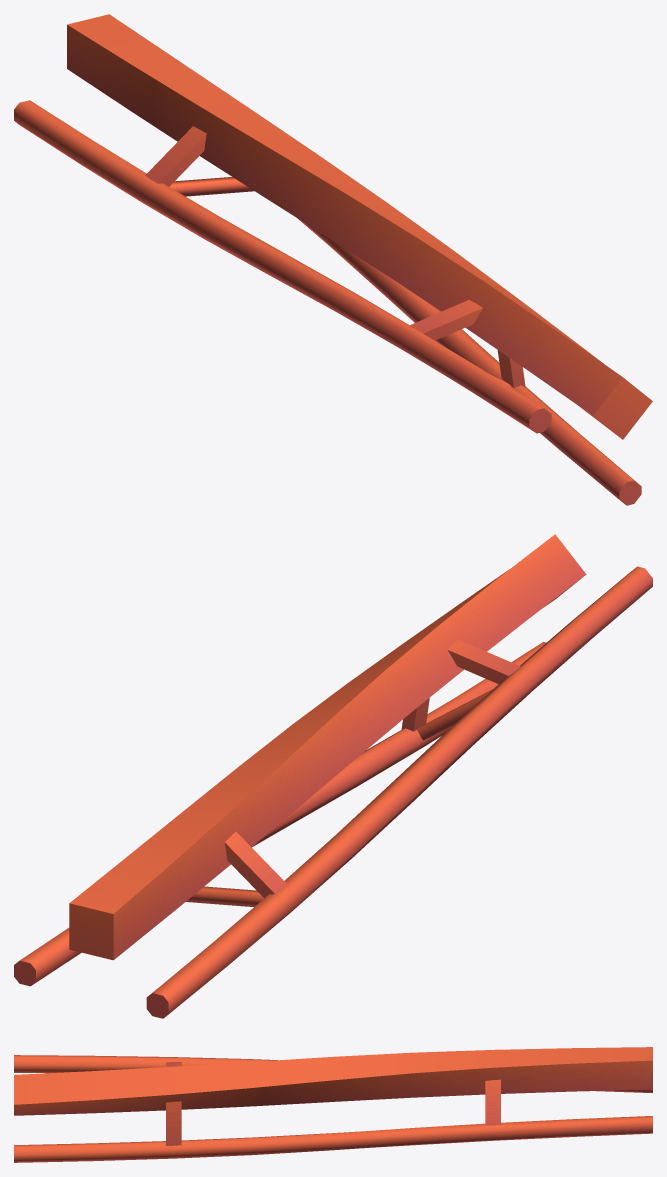
File: coaster-hanging-straight-skew-left.glb
3 renders of one model, top to bottom at view 1: azimuth 30°, elevation 25°; view 2: azimuth 150°, elevation 25°; view 3: azimuth 270°, elevation 25°, orthographic. The views are drawn at different scales.
Parts seen in each view (by area): view 1: coaster-hanging-straight-skew-left; view 2: coaster-hanging-straight-skew-left; view 3: coaster-hanging-straight-skew-left.
Part boxes in pixels (box(x1,y1,x2,y2)): coaster-hanging-straight-skew-left: box(14, 14, 652, 505); coaster-hanging-straight-skew-left: box(14, 534, 652, 1018); coaster-hanging-straight-skew-left: box(14, 1047, 652, 1162).
Bounding box in the file's own units: 0.7075 × 0.642 × 4.
1 material, 1 textured.
